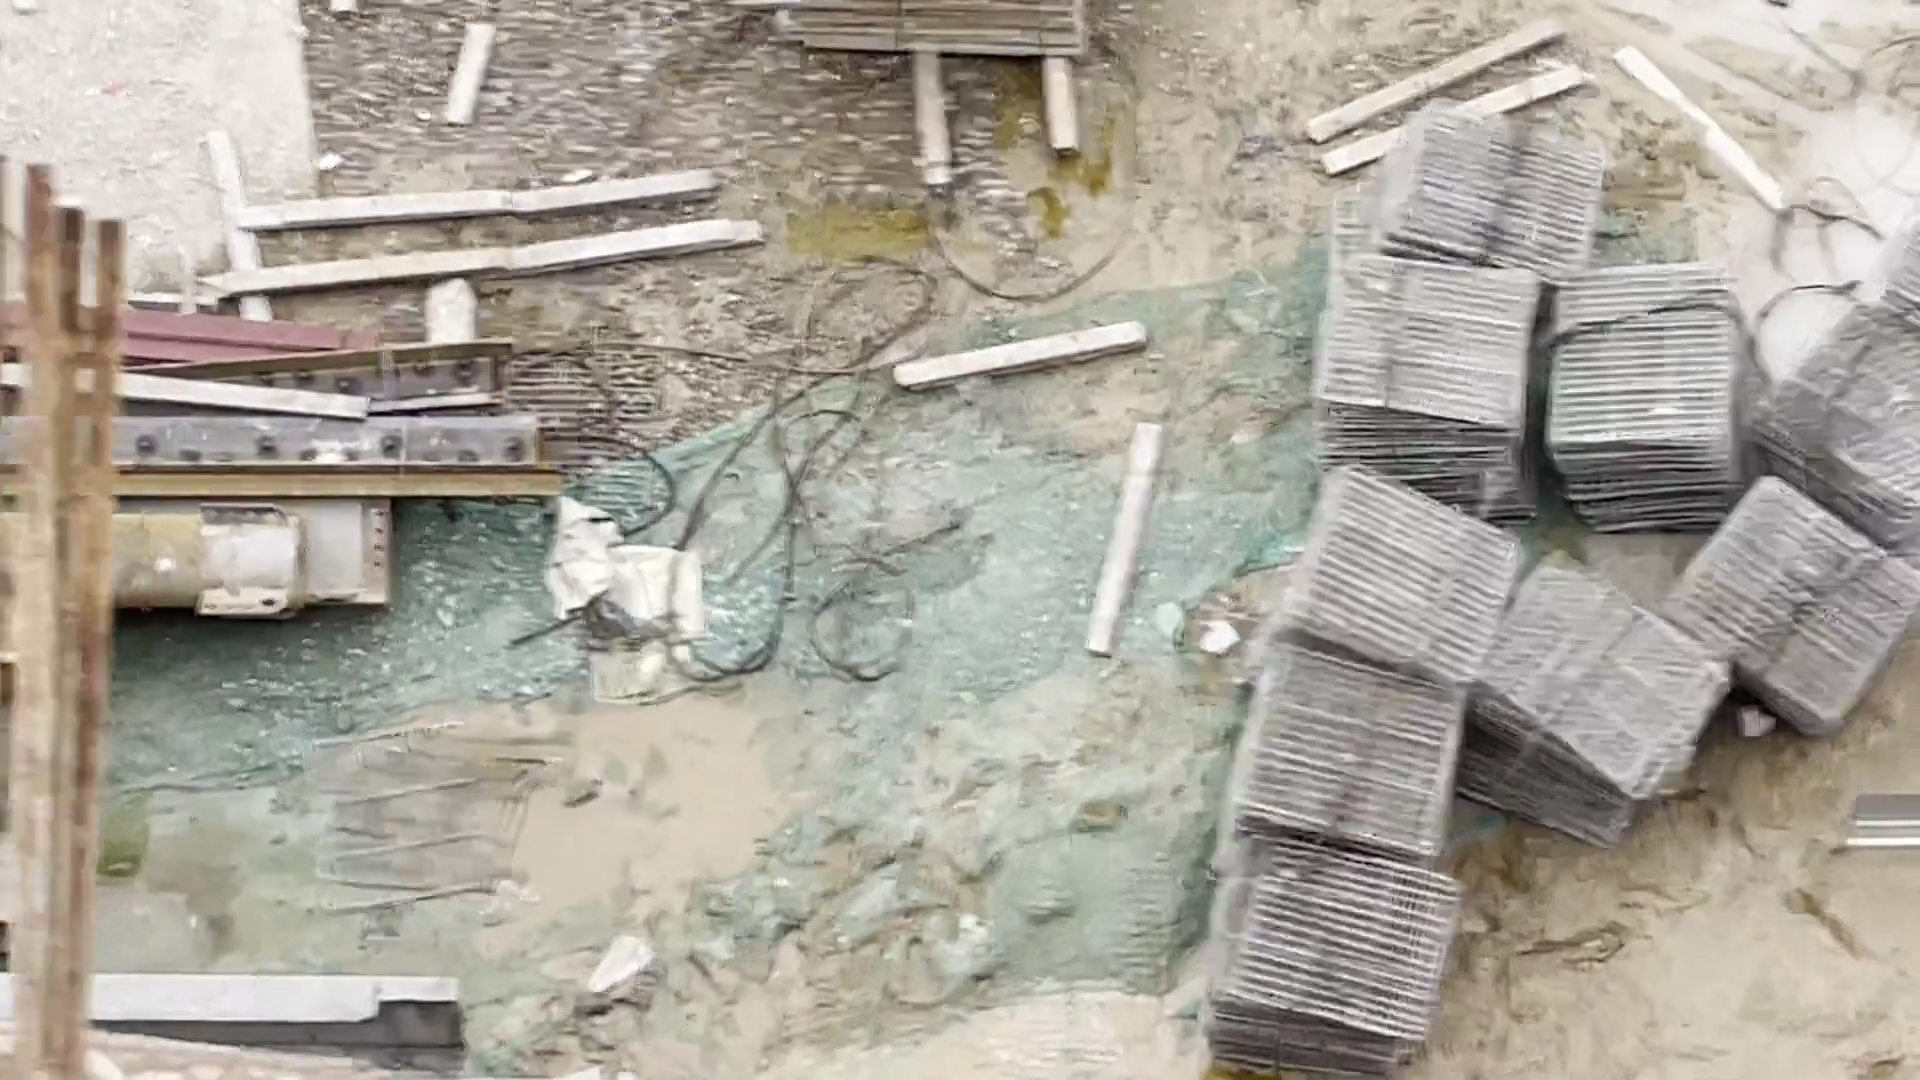wood: (795, 1, 1112, 76)
